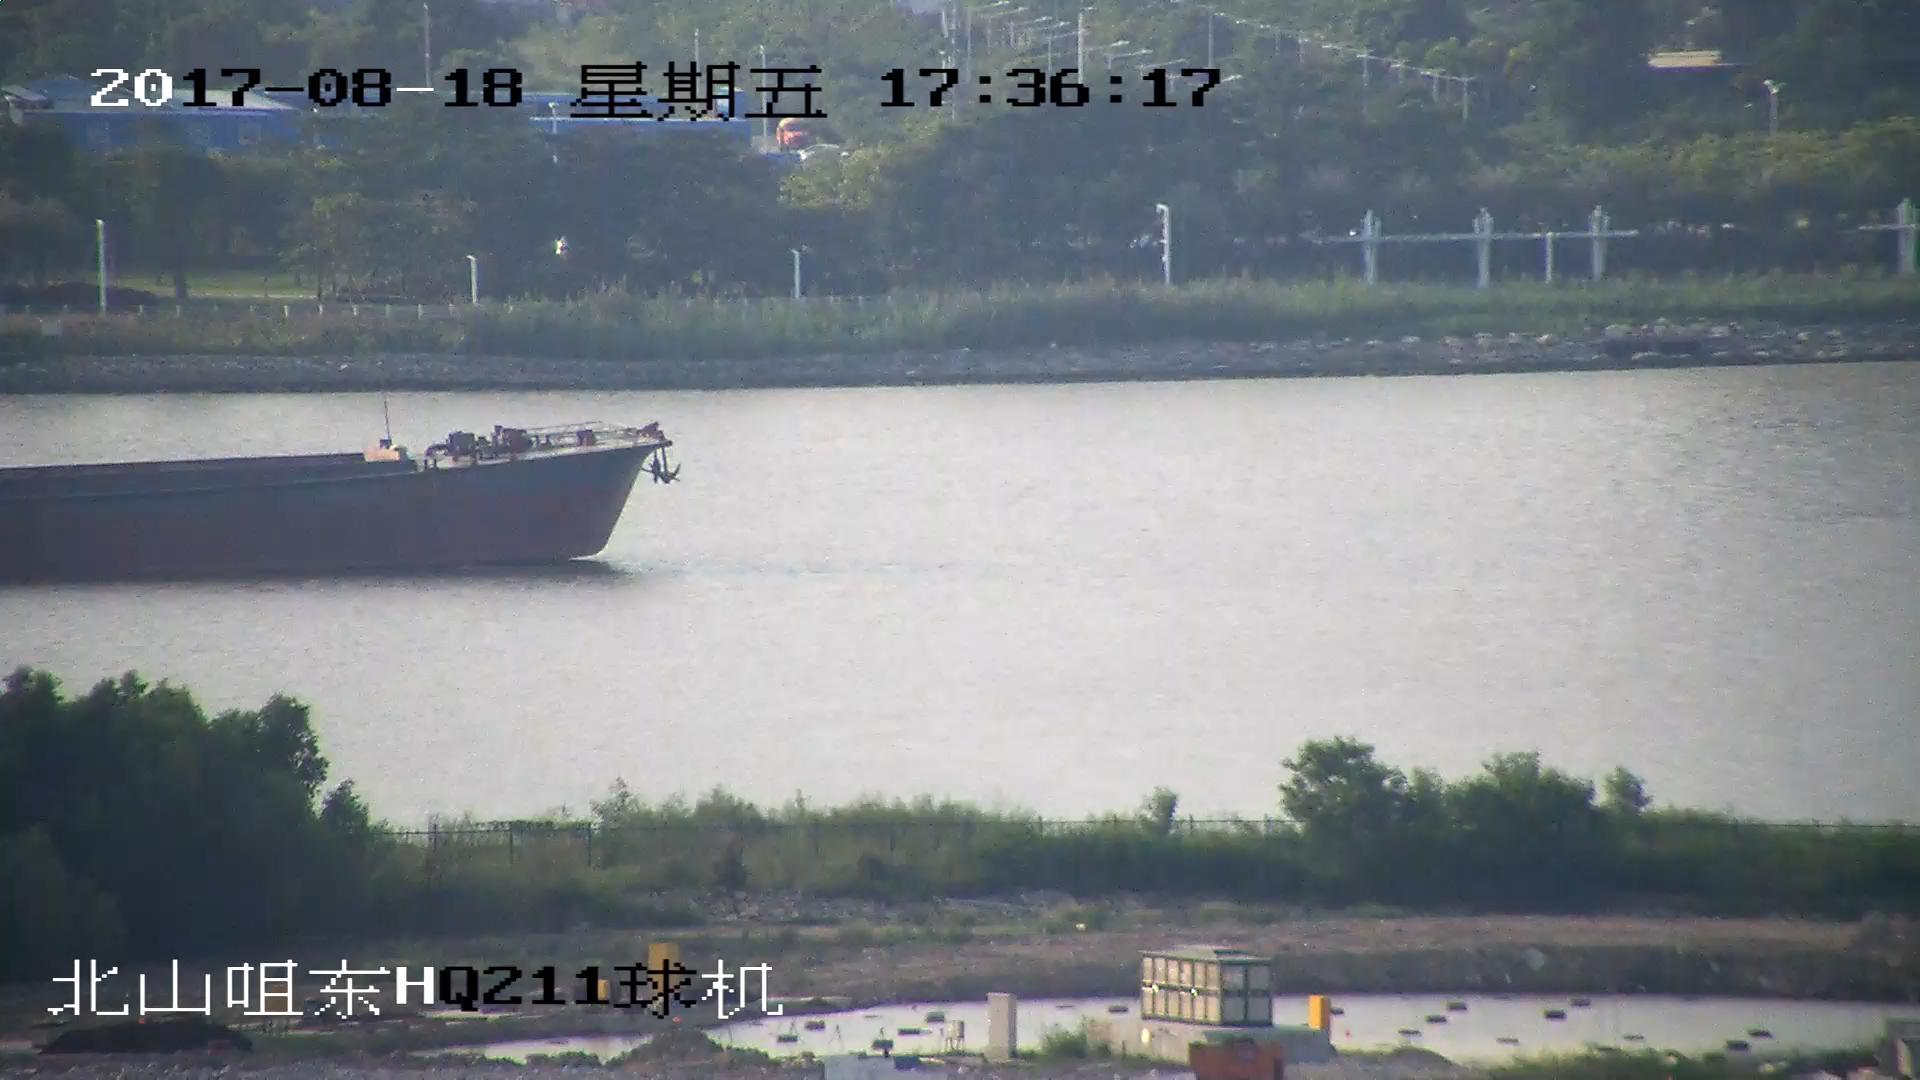Ship: (3, 417, 673, 583)
